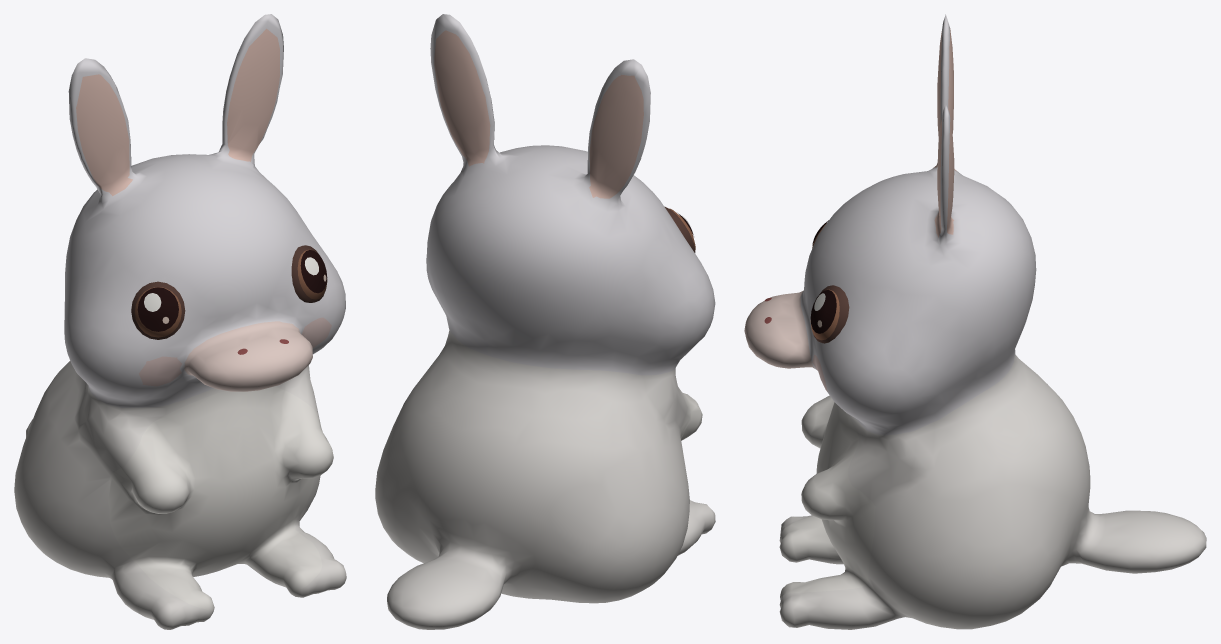
The model's file is lepara.glb.
3 renders of one model, left to right at view 1: azimuth 30°, elevation 25°; view 2: azimuth 150°, elevation 25°; view 3: azimuth 270°, elevation 25°, orthographic. The views are drawn at different scales.
Parts seen in each view (by area): view 1: body, eyes; view 2: body; view 3: body, eyes.
Part boxes in pixels (x1,y1,x2,y2): body: (14,14,346,629); eyes: (131,245,327,354); body: (375,14,715,629); body: (744,14,1206,629); eyes: (764,220,849,343).
Size of the model in its own units: 0.5434 by 0.9808 by 0.7747.
